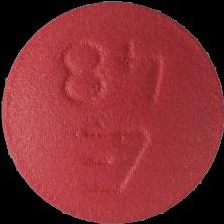21695-877: (0, 0, 224, 224)
